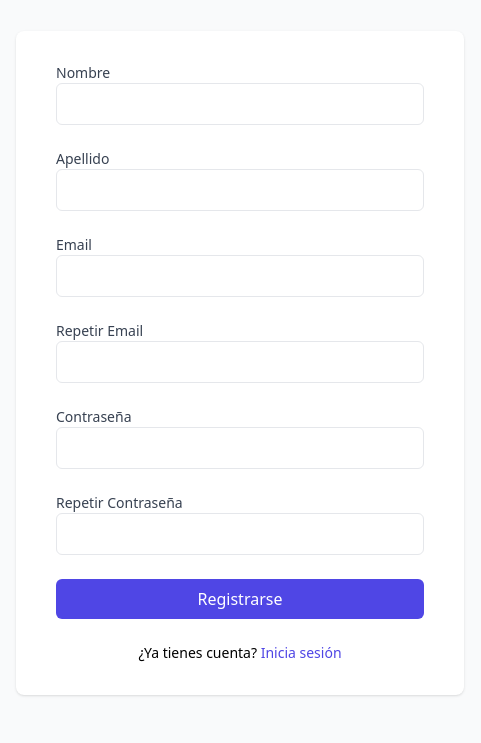
Scenario: RegisterForm › Validaciones de formulario › debe mostrar error cuando el nombre está vacío
(page scrolled)
Click the button "Registrarse" at (240, 599), box left=56, top=579, right=424, bottom=619
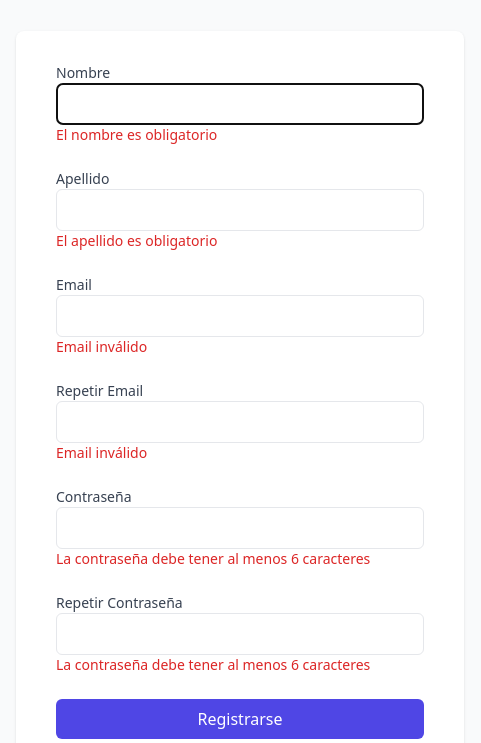
Check: the text "El nombre es obligatorio" is shown, box left=56, top=125, right=217, bottom=144
